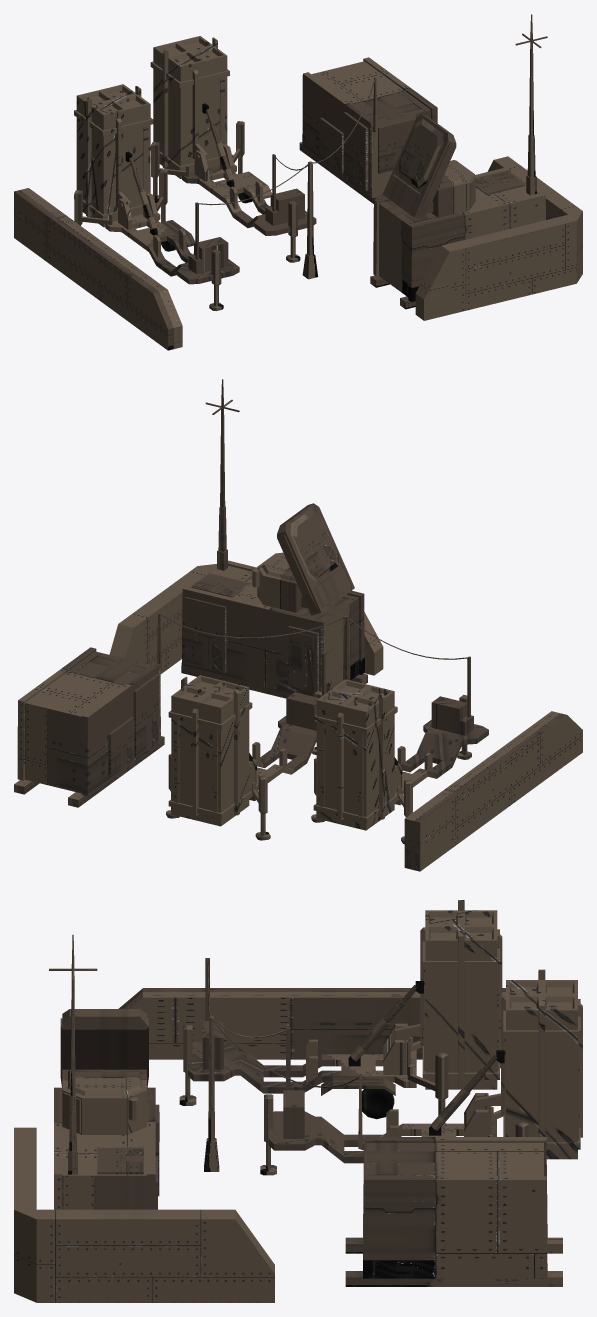
The model's file is AIr_Tower_Lvl3.fbx.
3 views of the same model, one above another, from view 1: azimuth 30°, elevation 25°; view 2: azimuth 150°, elevation 25°; view 3: azimuth 270°, elevation 25° (orthographic). The views are drawn at different scales.
Visible parts, largest first — view 1: Cube.077; view 2: Cube.077; view 3: Cube.077.
Boxes of the visible parts, box(x1,y1,x2,y2) form: Cube.077: box(14, 14, 582, 350); Cube.077: box(14, 379, 582, 871); Cube.077: box(14, 900, 582, 1302).
Size of the model in its own units: 7.45 by 4.97 by 7.84.
